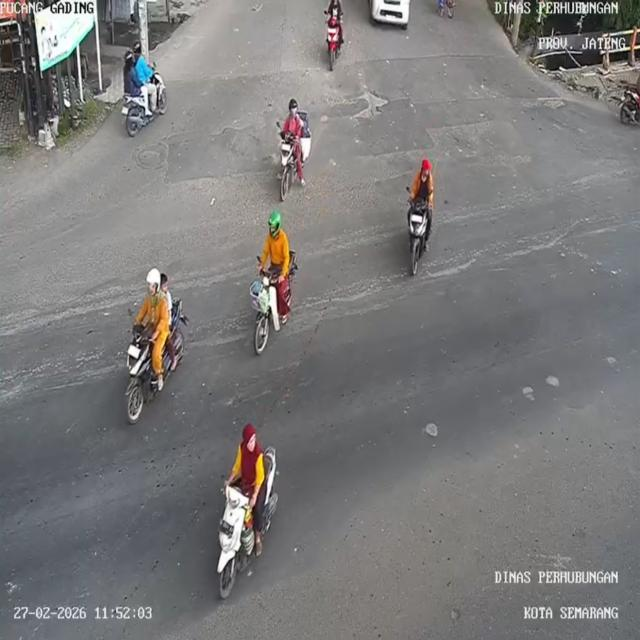motorcycle: (208, 482, 253, 607), (116, 320, 156, 426), (246, 264, 287, 346), (274, 123, 306, 209), (125, 87, 167, 140), (403, 205, 429, 279), (322, 16, 345, 73)
person: (230, 412, 270, 555), (133, 270, 173, 352), (257, 211, 294, 291), (410, 152, 435, 221), (160, 270, 178, 340), (280, 99, 306, 144), (121, 48, 143, 98), (134, 43, 154, 94), (326, 0, 345, 26)
rider_region: (210, 420, 280, 602), (124, 264, 188, 424), (248, 209, 298, 357), (118, 41, 167, 136), (405, 150, 437, 282), (274, 98, 311, 204), (318, 0, 347, 71)
